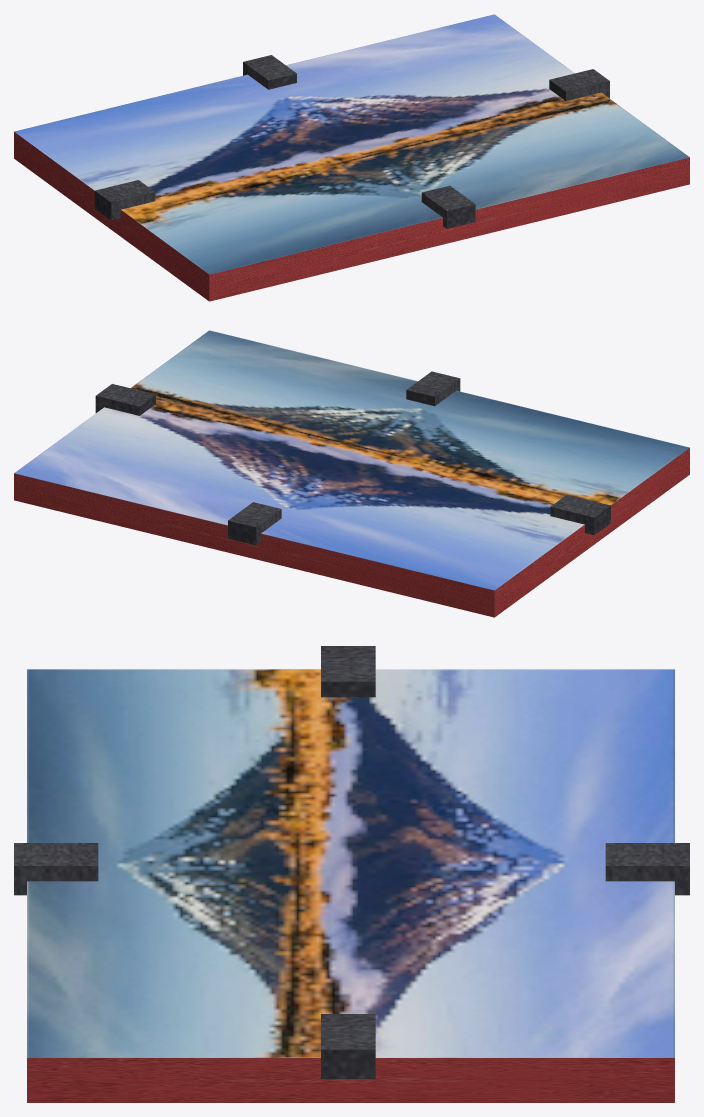
The model's file is pic3.FBX.
3 renders of one model, top to bottom at view 1: azimuth 30°, elevation 25°; view 2: azimuth 150°, elevation 25°; view 3: azimuth 270°, elevation 25°, orthographic. The views are drawn at different scales.
Visible parts, largest first — view 1: Object001, Box001, Box004, Box002, Box005, Box003; view 2: Object001, Box001, Box004, Box003, Box005, Box002; view 3: Object001, Box001, Box005, Box003, Box002, Box004.
Part boxes in pixels (x1,y1,x2,y2): Object001: [14, 14, 689, 274]; Box001: [14, 132, 689, 301]; Box004: [94, 180, 155, 220]; Box002: [421, 185, 475, 228]; Box005: [549, 69, 609, 100]; Box003: [243, 55, 296, 89]; Object001: [14, 330, 689, 590]; Box001: [14, 448, 689, 617]; Box004: [550, 495, 610, 535]; Box003: [228, 502, 281, 545]; Box005: [95, 384, 155, 415]; Box002: [406, 371, 460, 406]; Object001: [27, 669, 674, 1057]; Box001: [27, 1058, 674, 1102]; Box005: [321, 1014, 375, 1078]; Box003: [605, 843, 689, 895]; Box002: [14, 843, 98, 895]; Box004: [321, 646, 375, 697].
Size of the model in its own units: 93.56 by 6.52 by 66.26.
4 materials, 4 textured.
